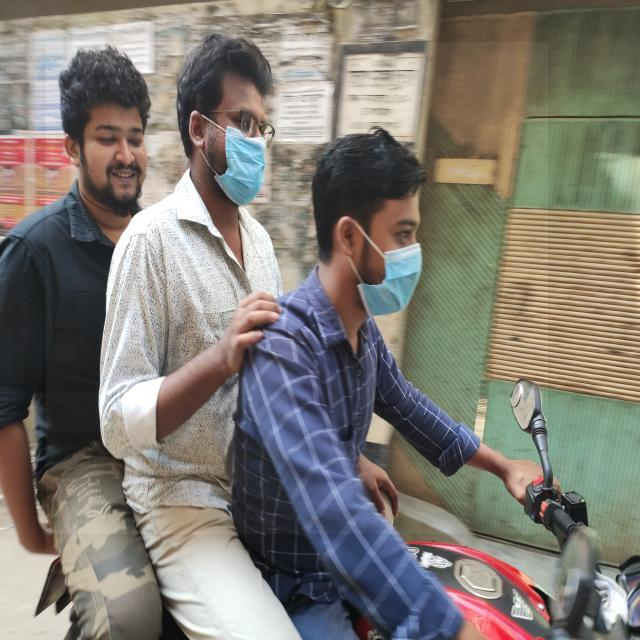Overloading: (46, 42, 548, 534)
